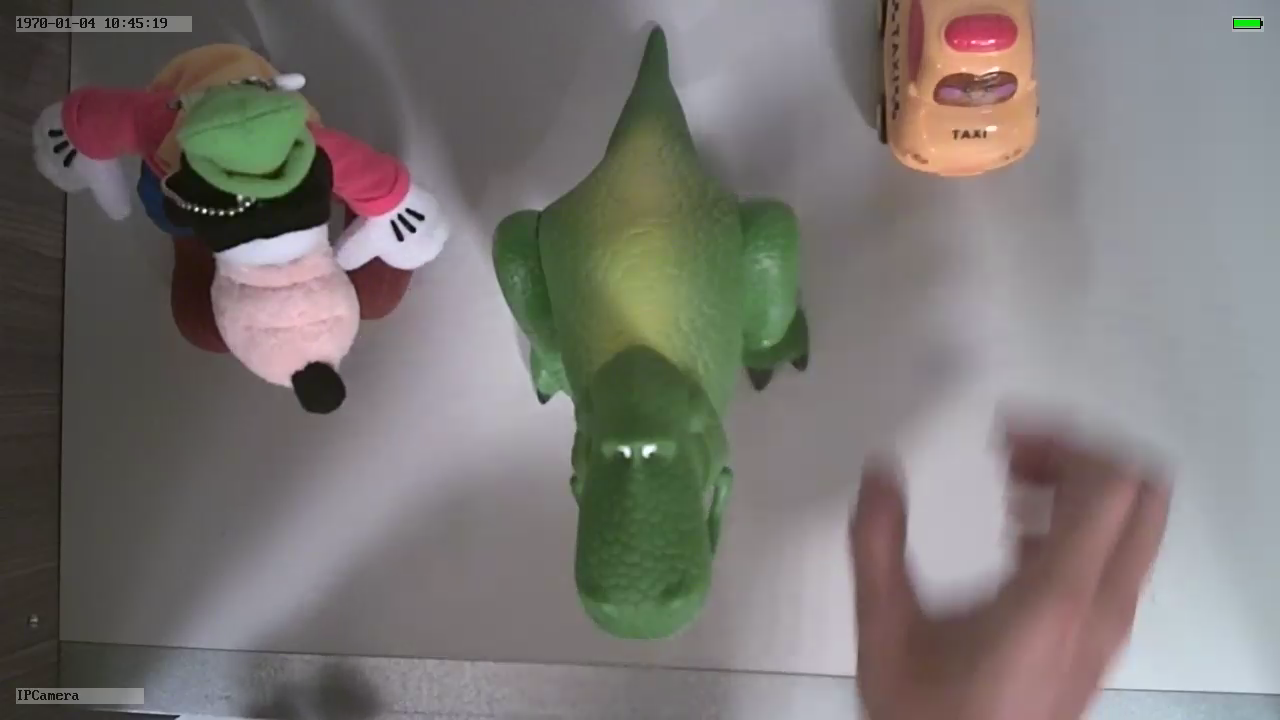goofy: (31, 41, 446, 415)
